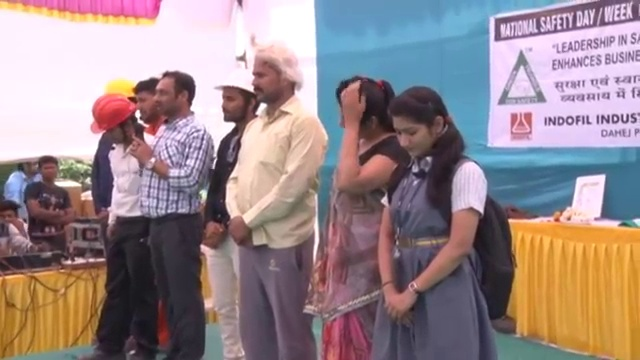helmet: (91, 94, 140, 133), (211, 65, 254, 95)
helmet_off: (388, 83, 457, 168), (243, 45, 308, 109), (135, 74, 196, 132), (343, 77, 387, 124), (127, 82, 162, 124), (32, 158, 54, 187), (0, 199, 22, 225), (17, 162, 39, 184)
helmet_on: (95, 93, 146, 157), (210, 65, 255, 129)
person: (372, 80, 519, 360), (223, 42, 330, 360), (127, 74, 215, 356), (324, 76, 403, 360), (85, 80, 161, 360), (205, 61, 254, 359), (24, 157, 71, 245), (5, 163, 40, 220)
